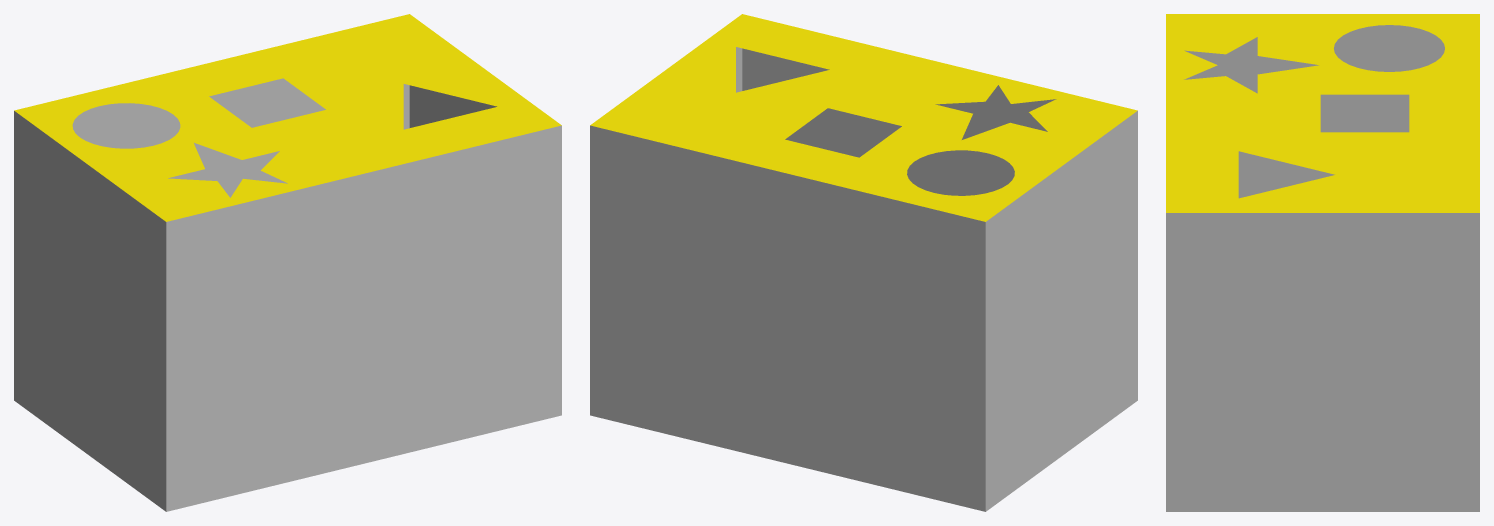
Rendered from Figuras geometricas.fbx.
3 views of the same model, side by side, from view 1: azimuth 30°, elevation 25°; view 2: azimuth 150°, elevation 25°; view 3: azimuth 270°, elevation 25° (orthographic). The views are drawn at different scales.
Visible parts, largest first — view 1: Cube; view 2: Cube; view 3: Cube.
Part boxes in pixels (x1,y1,x2,y2): Cube: (14,14,561,511); Cube: (590,14,1137,511); Cube: (1166,14,1479,511).
Bounding box in the file's own units: 600 × 420 × 400.
